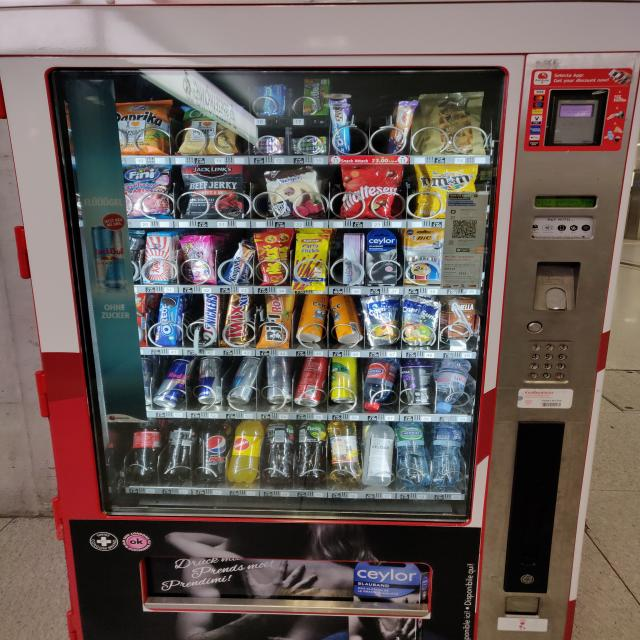airwaves_menthoneucalyptus_riegel_14_1_50173167: (249, 81, 288, 116)
bifi_roll__50__4251097402635: (256, 295, 296, 350)
c-swiss_dosenabisicetea__33__9120025930135: (292, 294, 332, 342), (327, 297, 365, 344)
caferoyal_classicmacchiato__33__7617014164487: (404, 358, 439, 407)
caprisun_multivitamin__20__4000177605004: (398, 293, 441, 346), (360, 296, 400, 346)
coke__dose_33__54491472: (296, 357, 334, 407)
coke__flasche_50__54491472: (127, 419, 167, 478)
coke_zero_flasche_50__5449000131836: (162, 420, 196, 479)
comella_schokodrink__33__7613100037253: (443, 296, 476, 340)
evian___50__3068320353500: (439, 359, 474, 413)
fini_galaxymix_packung_100_1_8410525150364: (124, 164, 171, 219)
fini_jellykisses_packung_80_1_8410525116704: (180, 233, 218, 286)
fuse_lemon__50__5449000235947: (292, 421, 328, 482)
fuse_lemon_dose_33__5449000235947: (329, 358, 363, 407)
fuse_peach__50__5449000236623: (260, 418, 296, 485)
henniez_blau__33__7610235000442: (427, 423, 463, 486)
henniez_gruen__33__7610235000442: (394, 422, 428, 489)
henniez_rot__33__7610235000442: (363, 357, 403, 409)
jacklinks_beefjerkyorginal__25__4047751730219: (185, 161, 249, 218)
jlbrichard_gauffre__90__5410495002000: (414, 89, 484, 157)
kagi_specialedition__50__7610046000259: (141, 228, 175, 284)
knoppers_riegel____4035800488808: (221, 242, 254, 283)
lorenz_nicnacs__40__4018077798818: (256, 228, 288, 286)
malburner_partysticks__40__7610200279682: (291, 231, 333, 293)
maltesers___100__5000159023061: (337, 165, 405, 221)
mnms_gelb__45__40111445: (421, 162, 481, 221)
oreo___66__84100733: (153, 294, 184, 346)
pepsi_max__50__4060800105943: (196, 419, 227, 484)
ramseier_schorle__50__7610057012456: (329, 417, 360, 489)
redbull___33__90162909: (155, 360, 189, 412), (193, 357, 226, 403), (264, 358, 295, 403)
redbull_light__33__90162800: (228, 358, 262, 404)
sinalco_orange__50__4018715000112: (228, 421, 266, 486)
skittles_sour_riegel_51_1_0000000000004: (302, 77, 331, 115)
snickers___50__5000159461122: (197, 293, 223, 345)
stimorol_spearmint_riegel_14_1_0000000000005: (291, 136, 328, 155)
stimorol_wildcherry_riegel_14_1_57060330: (253, 137, 284, 154)
twix___50__5000159459228: (223, 294, 256, 346)
vitaminwell_reload__50__7350042716388: (359, 420, 398, 490)
zweifel_graneochilli__100__7610095184009: (177, 103, 241, 156)
zweifel_paprika__90__7610095013002: (113, 98, 171, 156)
